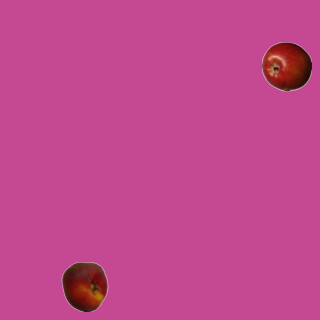Apple Braeburn: (261, 41, 311, 91)
Nectarine Flat: (59, 261, 109, 311)
